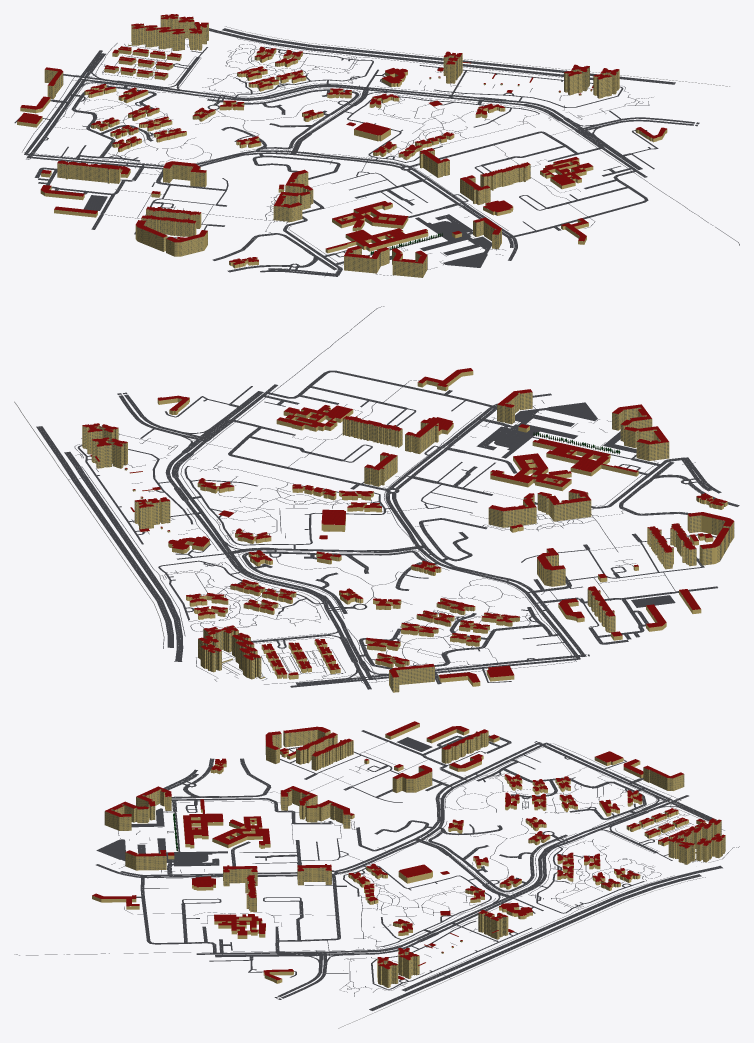
File: osm3d.glb
The picture shows the model from 3 angles, top to bottom: view 1: azimuth 30°, elevation 25°; view 2: azimuth 150°, elevation 25°; view 3: azimuth 270°, elevation 25°; orthographic projection. The views are drawn at different scales.
Parts seen in each view (by area): view 1: ASPHALT, Plaster002, RoofingTiles010, Windows; view 2: ASPHALT, Plaster002, RoofingTiles010, Windows; view 3: ASPHALT, Plaster002, RoofingTiles010, Windows.
Part boxes in pixels (box(x1,y1,x2,y2)): ASPHALT: box(14, 26, 739, 276); Plaster002: box(17, 16, 667, 277); RoofingTiles010: box(17, 14, 666, 264); Windows: box(45, 16, 618, 277); ASPHALT: box(36, 306, 739, 689); Plaster002: box(82, 371, 734, 692); RoofingTiles010: box(82, 368, 733, 682); Windows: box(83, 392, 734, 692); ASPHALT: box(14, 730, 739, 1010); Plaster002: box(92, 723, 725, 987); RoofingTiles010: box(92, 721, 725, 980); Windows: box(105, 730, 725, 987).
Size of the model in its own units: 1392 by 40.04 by 1404.
Materials: 16 (16 with a texture image).
